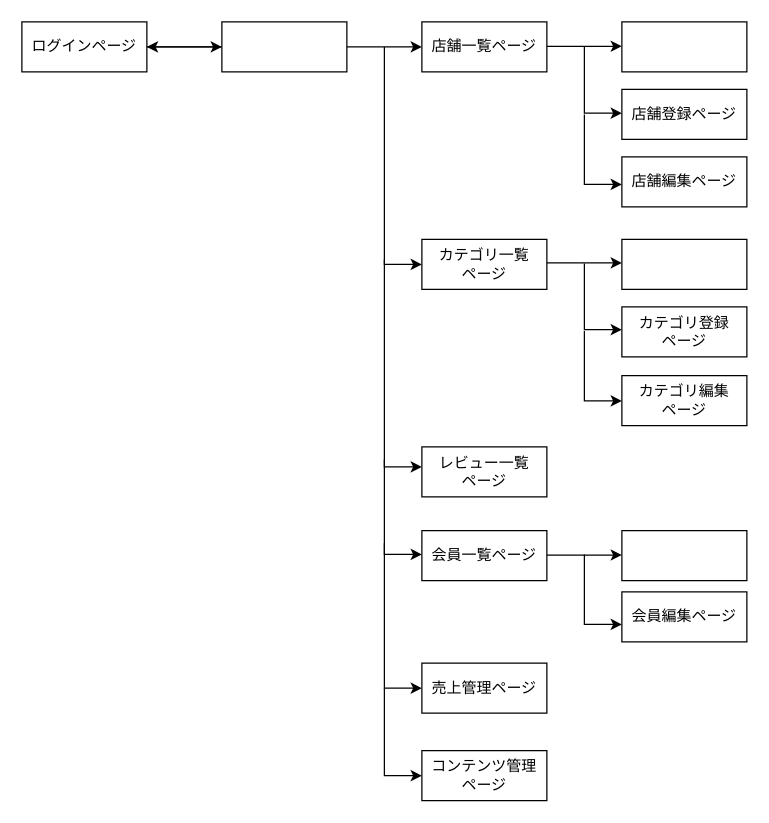
Image size: 769x823. Some labels were removed from this diagram. Each missing label, with the centre of its shape:
カテゴリ詳細 ページ: [684,263]
トップページ: [284,46]
会員詳細ページ: [684,555]
店舗詳細ページ: [684,46]
